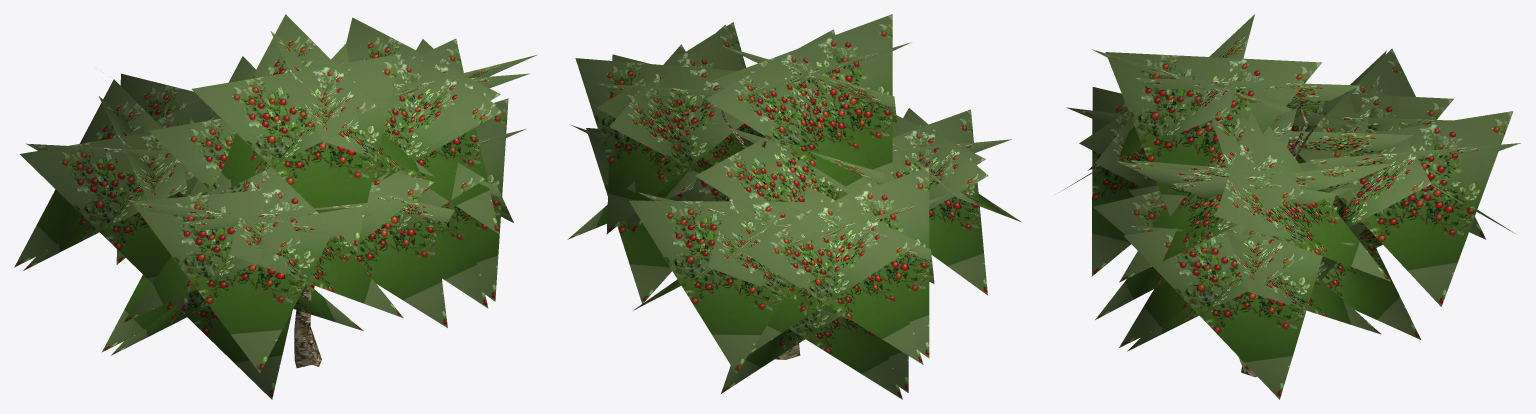
The model's file is apple-fruit-4.glb.
The picture shows the model from 3 angles, left to right: view 1: azimuth 30°, elevation 25°; view 2: azimuth 150°, elevation 25°; view 3: azimuth 270°, elevation 25°; orthographic projection. The views are drawn at different scales.
Visible parts, largest first — view 1: apple-fruit-4; view 2: apple-fruit-4; view 3: apple-fruit-4.
Boxes of the visible parts, x1,y1,x2,y2 form: apple-fruit-4: (14,14,537,399); apple-fruit-4: (567,14,1021,399); apple-fruit-4: (1055,14,1520,399).
Size of the model in its own units: 8.56 by 5.63 by 7.83.
Materials: 2 (2 with a texture image).
